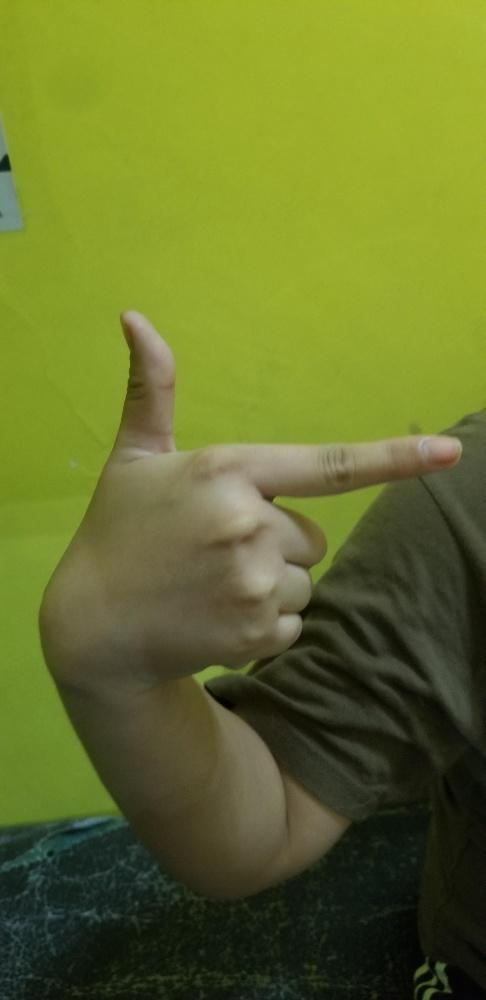g: (65, 311, 464, 666)
